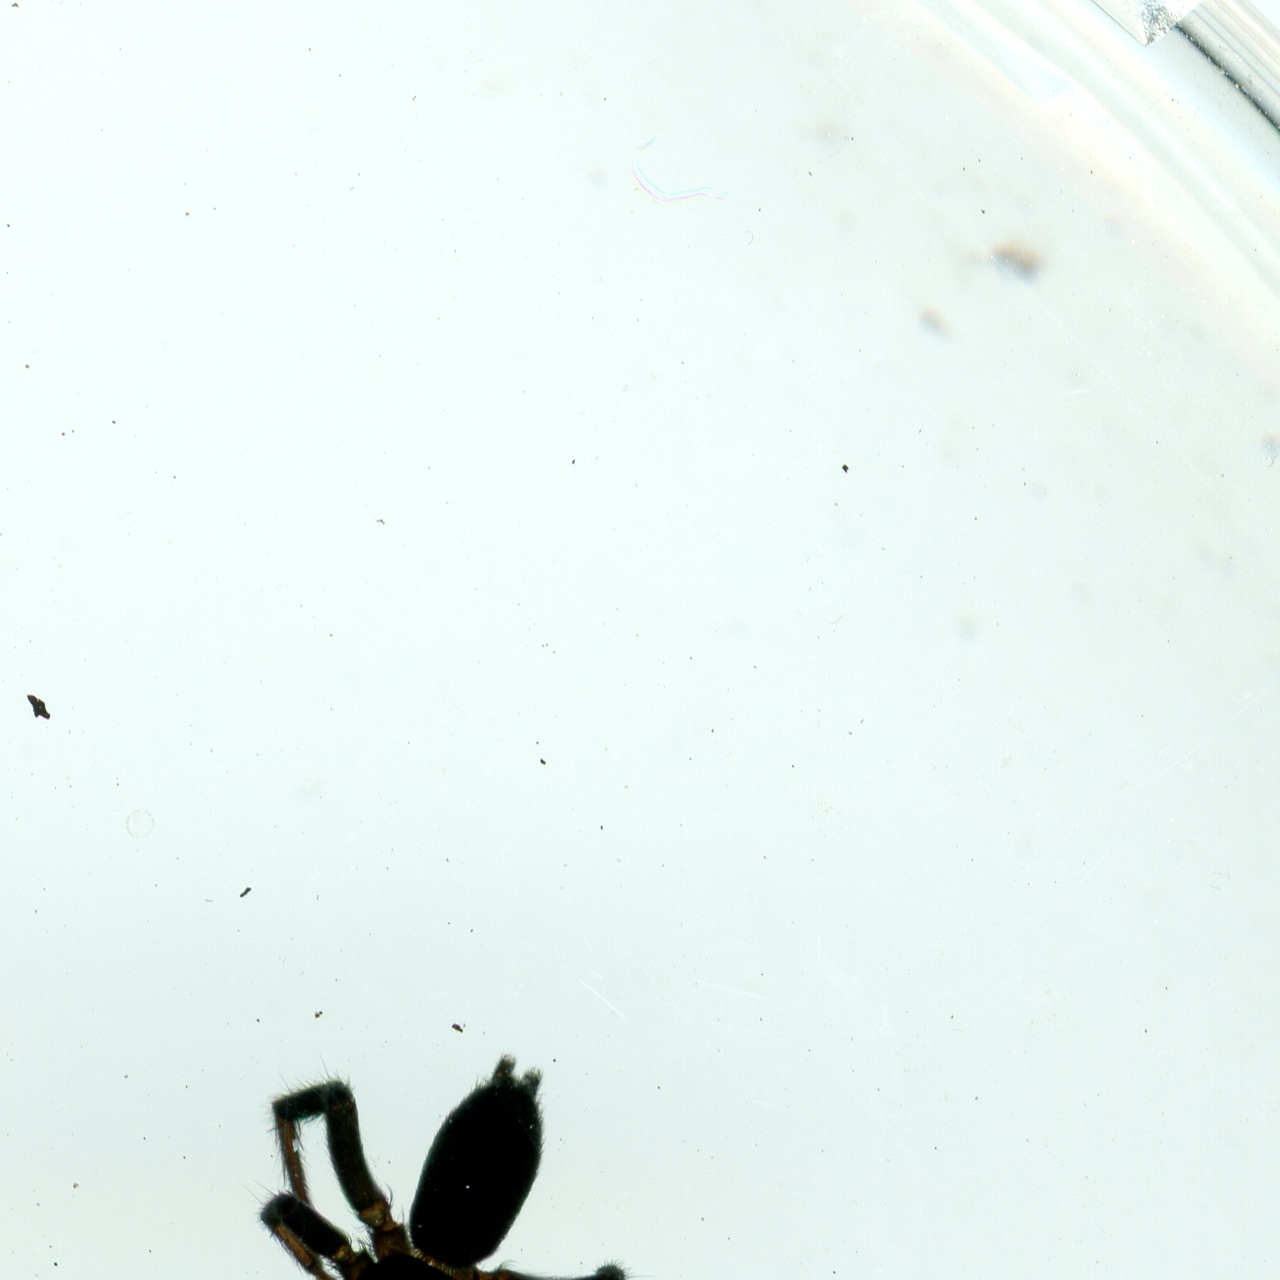arthropod: (148, 1036, 663, 1280)
